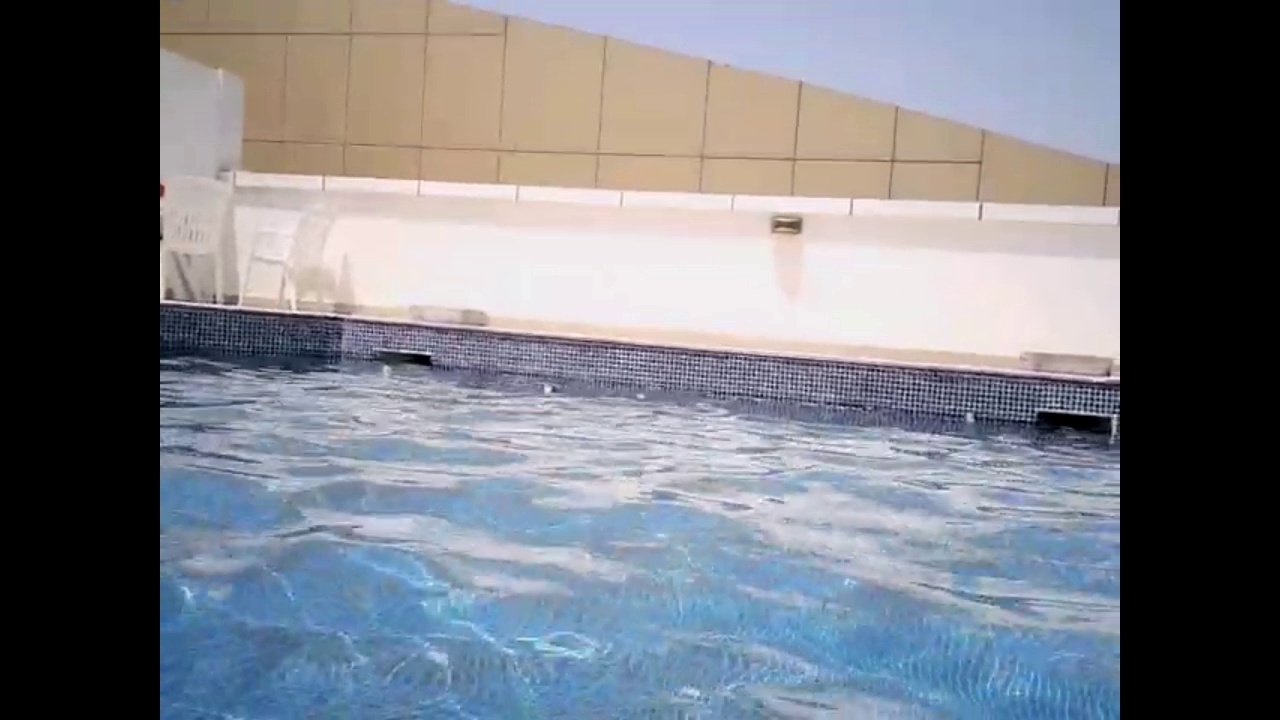debris: (538, 381, 563, 396), (964, 407, 975, 429), (382, 362, 394, 373)
